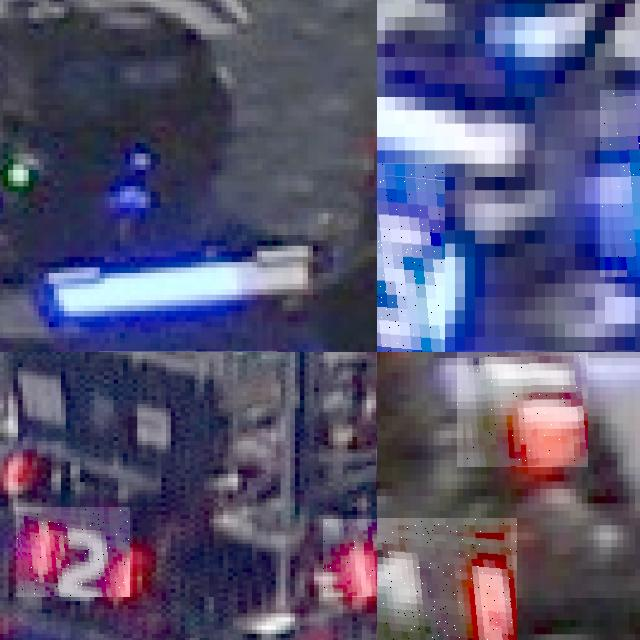B5: (377, 163, 445, 352), (600, 90, 640, 276)
R1: (377, 518, 516, 640), (457, 352, 587, 467)
R2: (16, 507, 130, 597), (323, 519, 377, 597)
